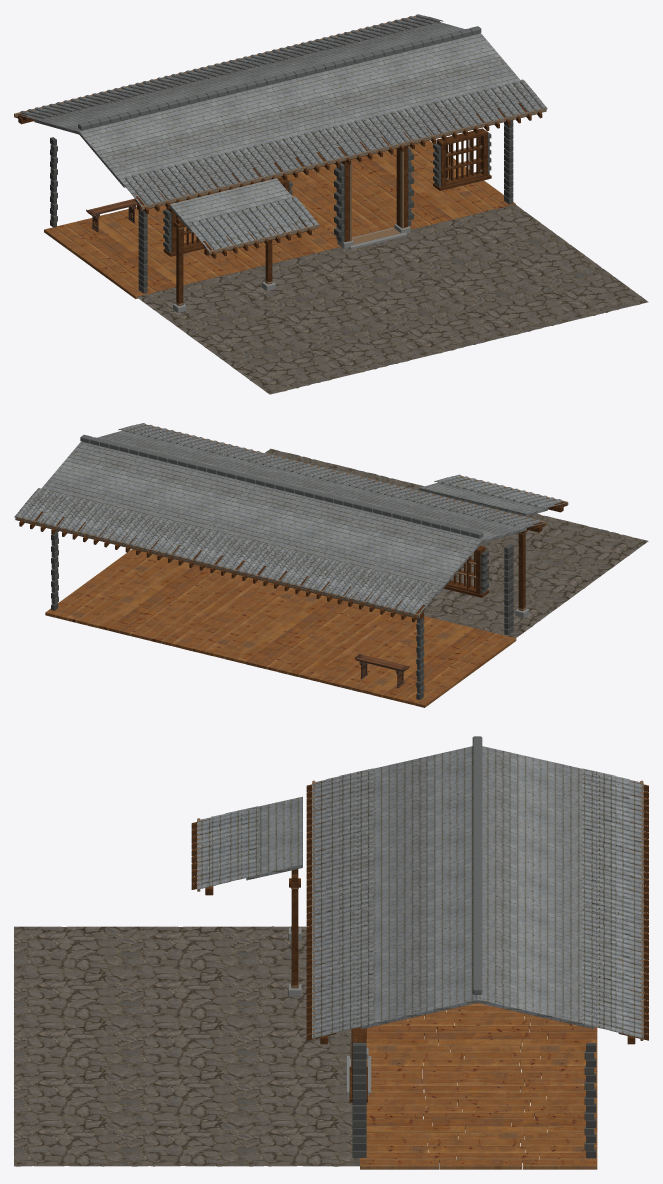
Rendered from hall-model.glb.
The picture shows the model from 3 angles, top to bottom: view 1: azimuth 30°, elevation 25°; view 2: azimuth 150°, elevation 25°; view 3: azimuth 270°, elevation 25°; orthographic projection. The views are drawn at different scales.
Parts seen in each view (by area): view 1: 屋面 · 搭接小青瓦, 庭院 · 按扫描起伏制作的石板地, 材料厅 · 错缝、倒角木地板, 门窗与檐下木构, 屋脊与瓦口 · 端面, 木作边缘、窗格内层, 墙角与洞口 · 青砖 2, 墙角与洞口 · 青砖 1, 磨损石门槛与柱脚, chinese_console_table; view 2: 屋面 · 搭接小青瓦, 材料厅 · 错缝、倒角木地板, 庭院 · 按扫描起伏制作的石板地, 屋脊与瓦口 · 端面, 门窗与檐下木构, 木作边缘、窗格内层, 墙角与洞口 · 青砖 2, 墙角与洞口 · 青砖 1, chinese_console_table; view 3: 屋面 · 搭接小青瓦, 庭院 · 按扫描起伏制作的石板地, 材料厅 · 错缝、倒角木地板, 门窗与檐下木构, 屋脊与瓦口 · 端面, 墙角与洞口 · 青砖 1, 墙角与洞口 · 青砖 2, 木作边缘、窗格内层.
Part boxes in pixels (x1,y1,x2,y2): 屋面 · 搭接小青瓦: (16,14,547,252); 庭院 · 按扫描起伏制作的石板地: (136,204,648,394); 材料厅 · 错缝、倒角木地板: (44,140,515,298); 门窗与檐下木构: (15,21,542,305); 屋脊与瓦口 · 端面: (23,20,547,253); 木作边缘、窗格内层: (14,15,546,305); 墙角与洞口 · 青砖 2: (50,122,513,287); 墙角与洞口 · 青砖 1: (50,120,513,293); 磨损石门槛与柱脚: (173,224,410,312); chinese_console_table: (86,198,137,232); 屋面 · 搭接小青瓦: (15,423,565,616); 材料厅 · 错缝、倒角木地板: (45,549,516,707); 庭院 · 按扫描起伏制作的石板地: (265,448,648,637); 屋脊与瓦口 · 端面: (14,429,537,616); 门窗与檐下木构: (19,430,566,622); 木作边缘、窗格内层: (15,424,568,618); 墙角与洞口 · 青砖 2: (51,533,513,699); 墙角与洞口 · 青砖 1: (51,530,513,693); chinese_console_table: (354,653,409,687); 屋面 · 搭接小青瓦: (197,746,643,1038); 庭院 · 按扫描起伏制作的石板地: (14,926,359,1166); 材料厅 · 错缝、倒角木地板: (360,1003,597,1169); 门窗与檐下木构: (191,781,648,1102); 屋脊与瓦口 · 端面: (472,736,482,994); 墙角与洞口 · 青砖 1: (352,1042,594,1157); 墙角与洞口 · 青砖 2: (352,1043,596,1158); 木作边缘、窗格内层: (197,780,643,1066).
Size of the model in its own units: 11.84 by 4.01 by 12.38.
Materials: 11 (5 with a texture image).
